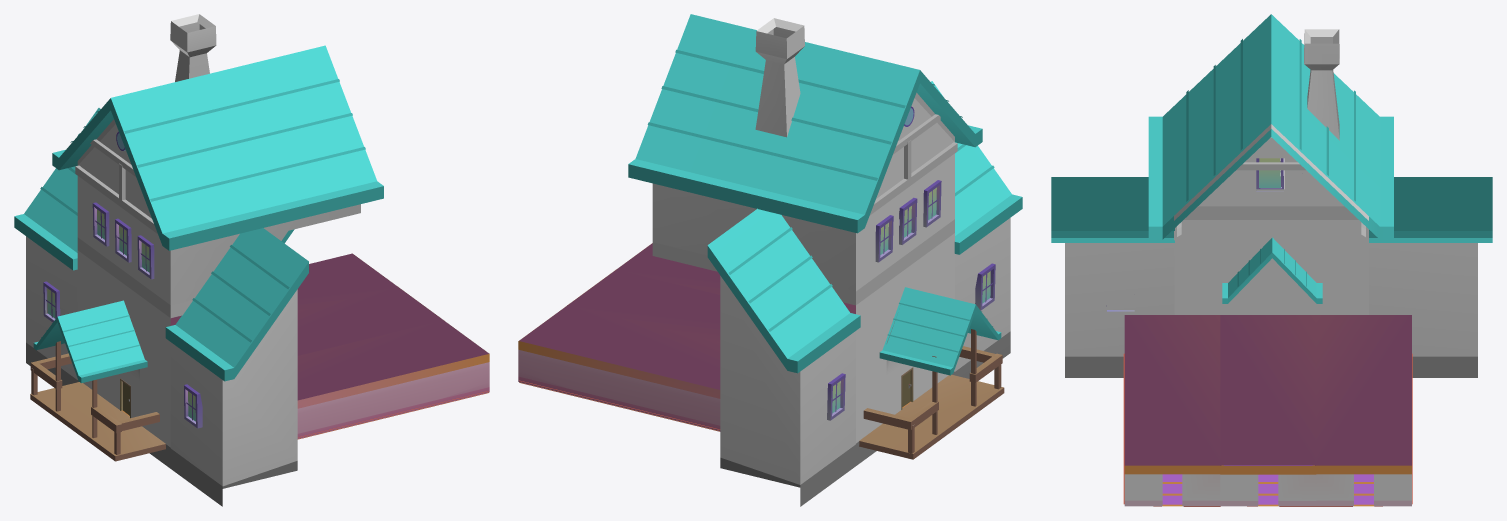
The model's file is house-leave-three-hallways.fbx.
The picture shows the model from 3 angles, left to right: view 1: azimuth 30°, elevation 25°; view 2: azimuth 150°, elevation 25°; view 3: azimuth 270°, elevation 25°; orthographic projection. The views are drawn at different scales.
Visible parts, largest first — view 1: house; view 2: house; view 3: house.
Boxes of the visible parts, x1,y1,x2,y2 form: house: (14, 14, 489, 506); house: (518, 14, 1022, 506); house: (1051, 14, 1492, 506).
Size of the model in its own units: 29.51 by 28.91 by 29.72.
